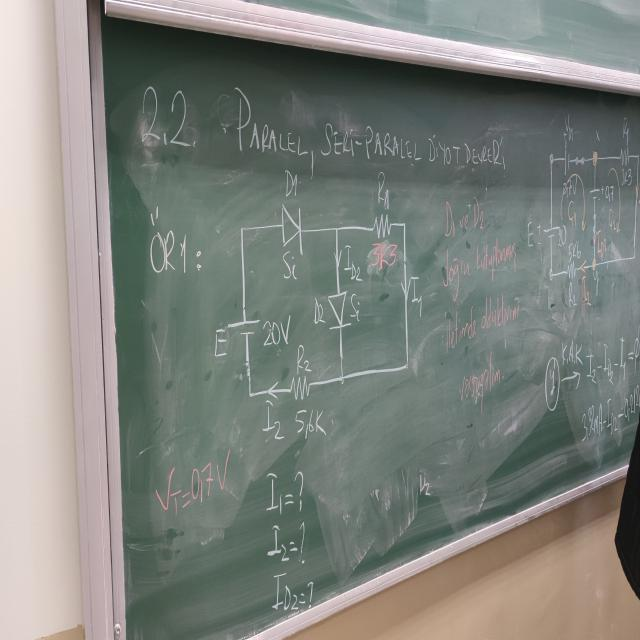image: (203, 171, 433, 466), (536, 107, 640, 346)
text: (216, 78, 520, 210), (433, 186, 525, 431)
